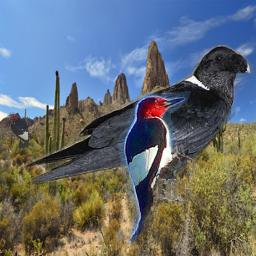Crow: (21, 45, 256, 212)
Woodpecker: (111, 86, 193, 245), (6, 112, 32, 149)
